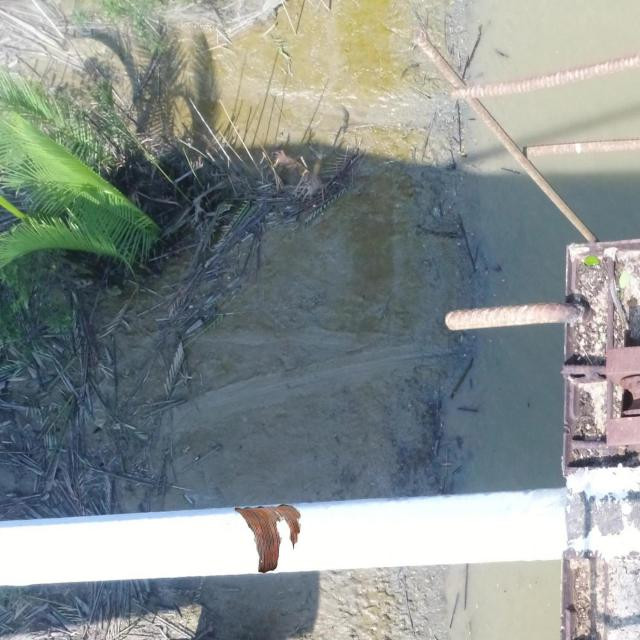corrosion: (234, 504, 301, 572)
